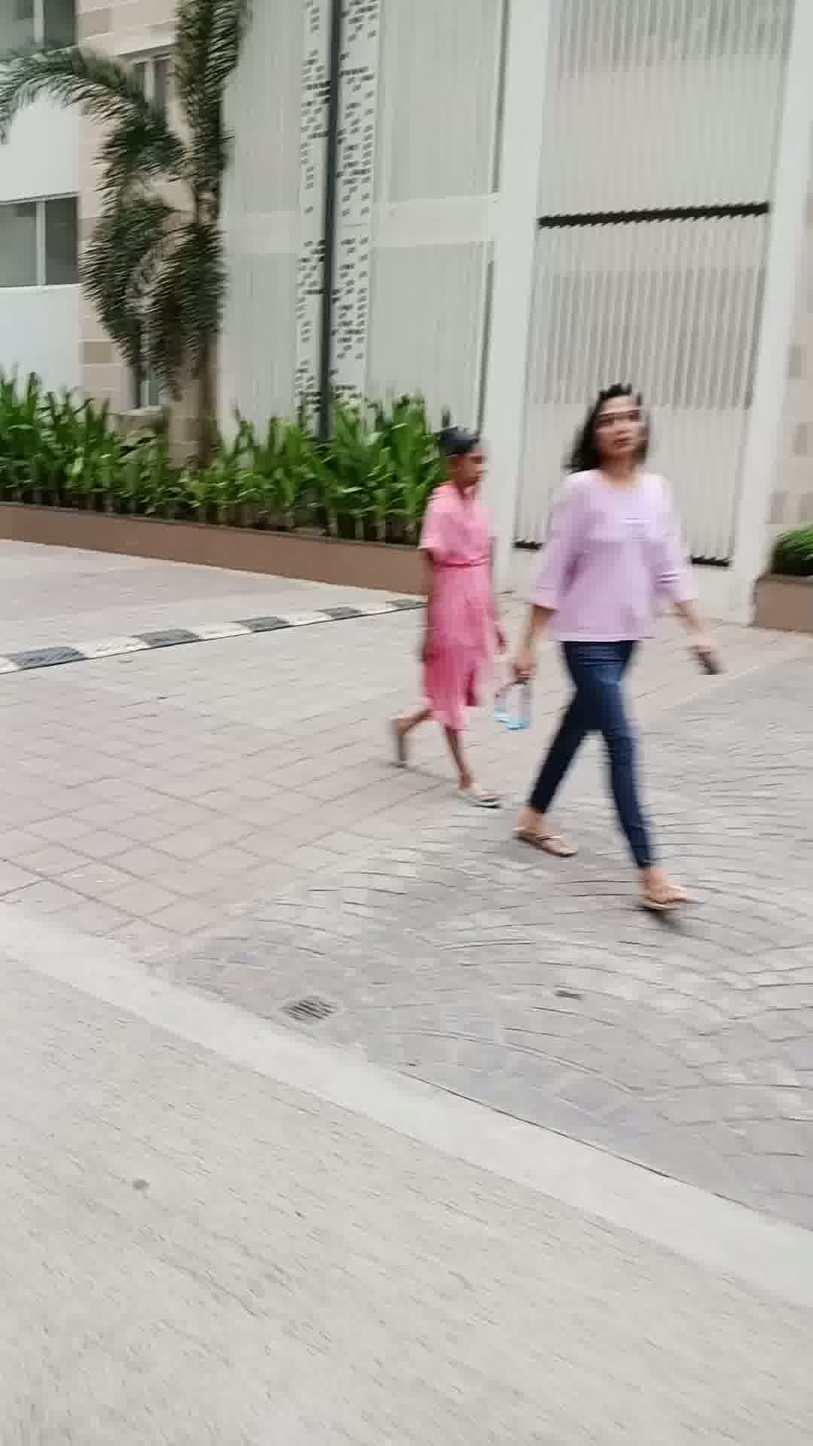person: (515, 353, 762, 948), (395, 387, 526, 834)
tree: (3, 0, 310, 498)
